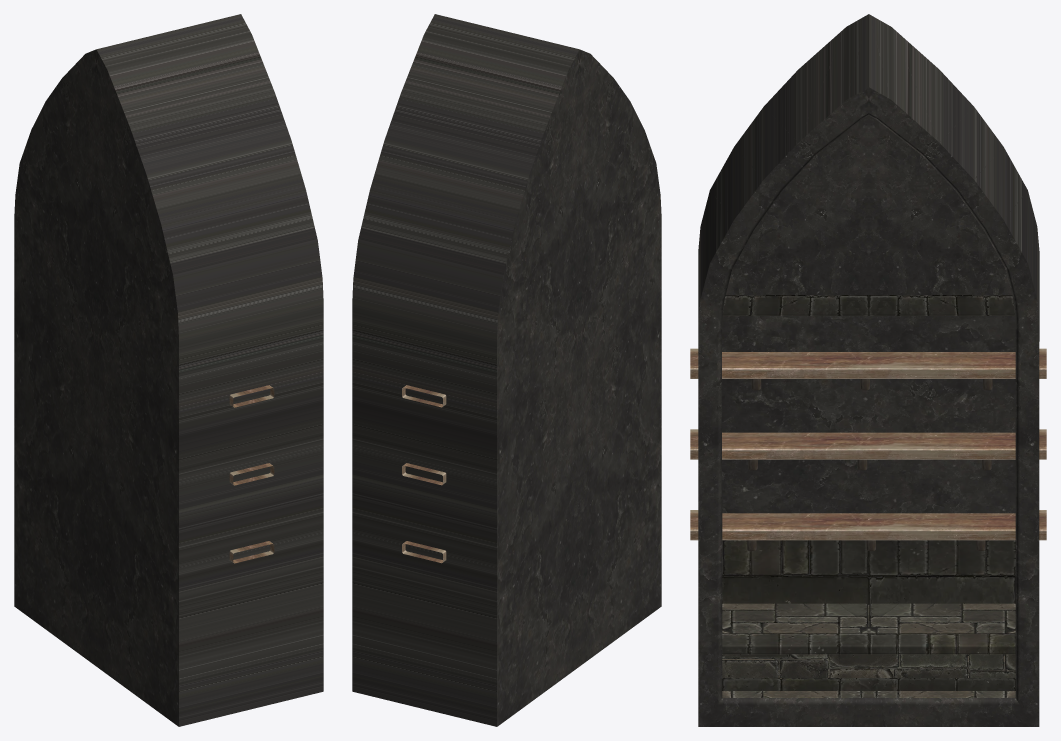
3 renders of one model, left to right at view 1: azimuth 30°, elevation 25°; view 2: azimuth 150°, elevation 25°; view 3: azimuth 270°, elevation 25°, orthographic. The views are drawn at different scales.
Visible parts, largest first — view 1: SM_Kitchen_Inner_07_LOD0; view 2: SM_Kitchen_Inner_07_LOD0; view 3: SM_Kitchen_Inner_07_LOD0.
Boxes of the visible parts, x1,y1,x2,y2 form: SM_Kitchen_Inner_07_LOD0: (14, 14, 323, 726); SM_Kitchen_Inner_07_LOD0: (352, 14, 661, 726); SM_Kitchen_Inner_07_LOD0: (690, 14, 1046, 726).
Bounding box in the file's own units: 1.95 × 7.93 × 4.
4 materials, 4 textured.
